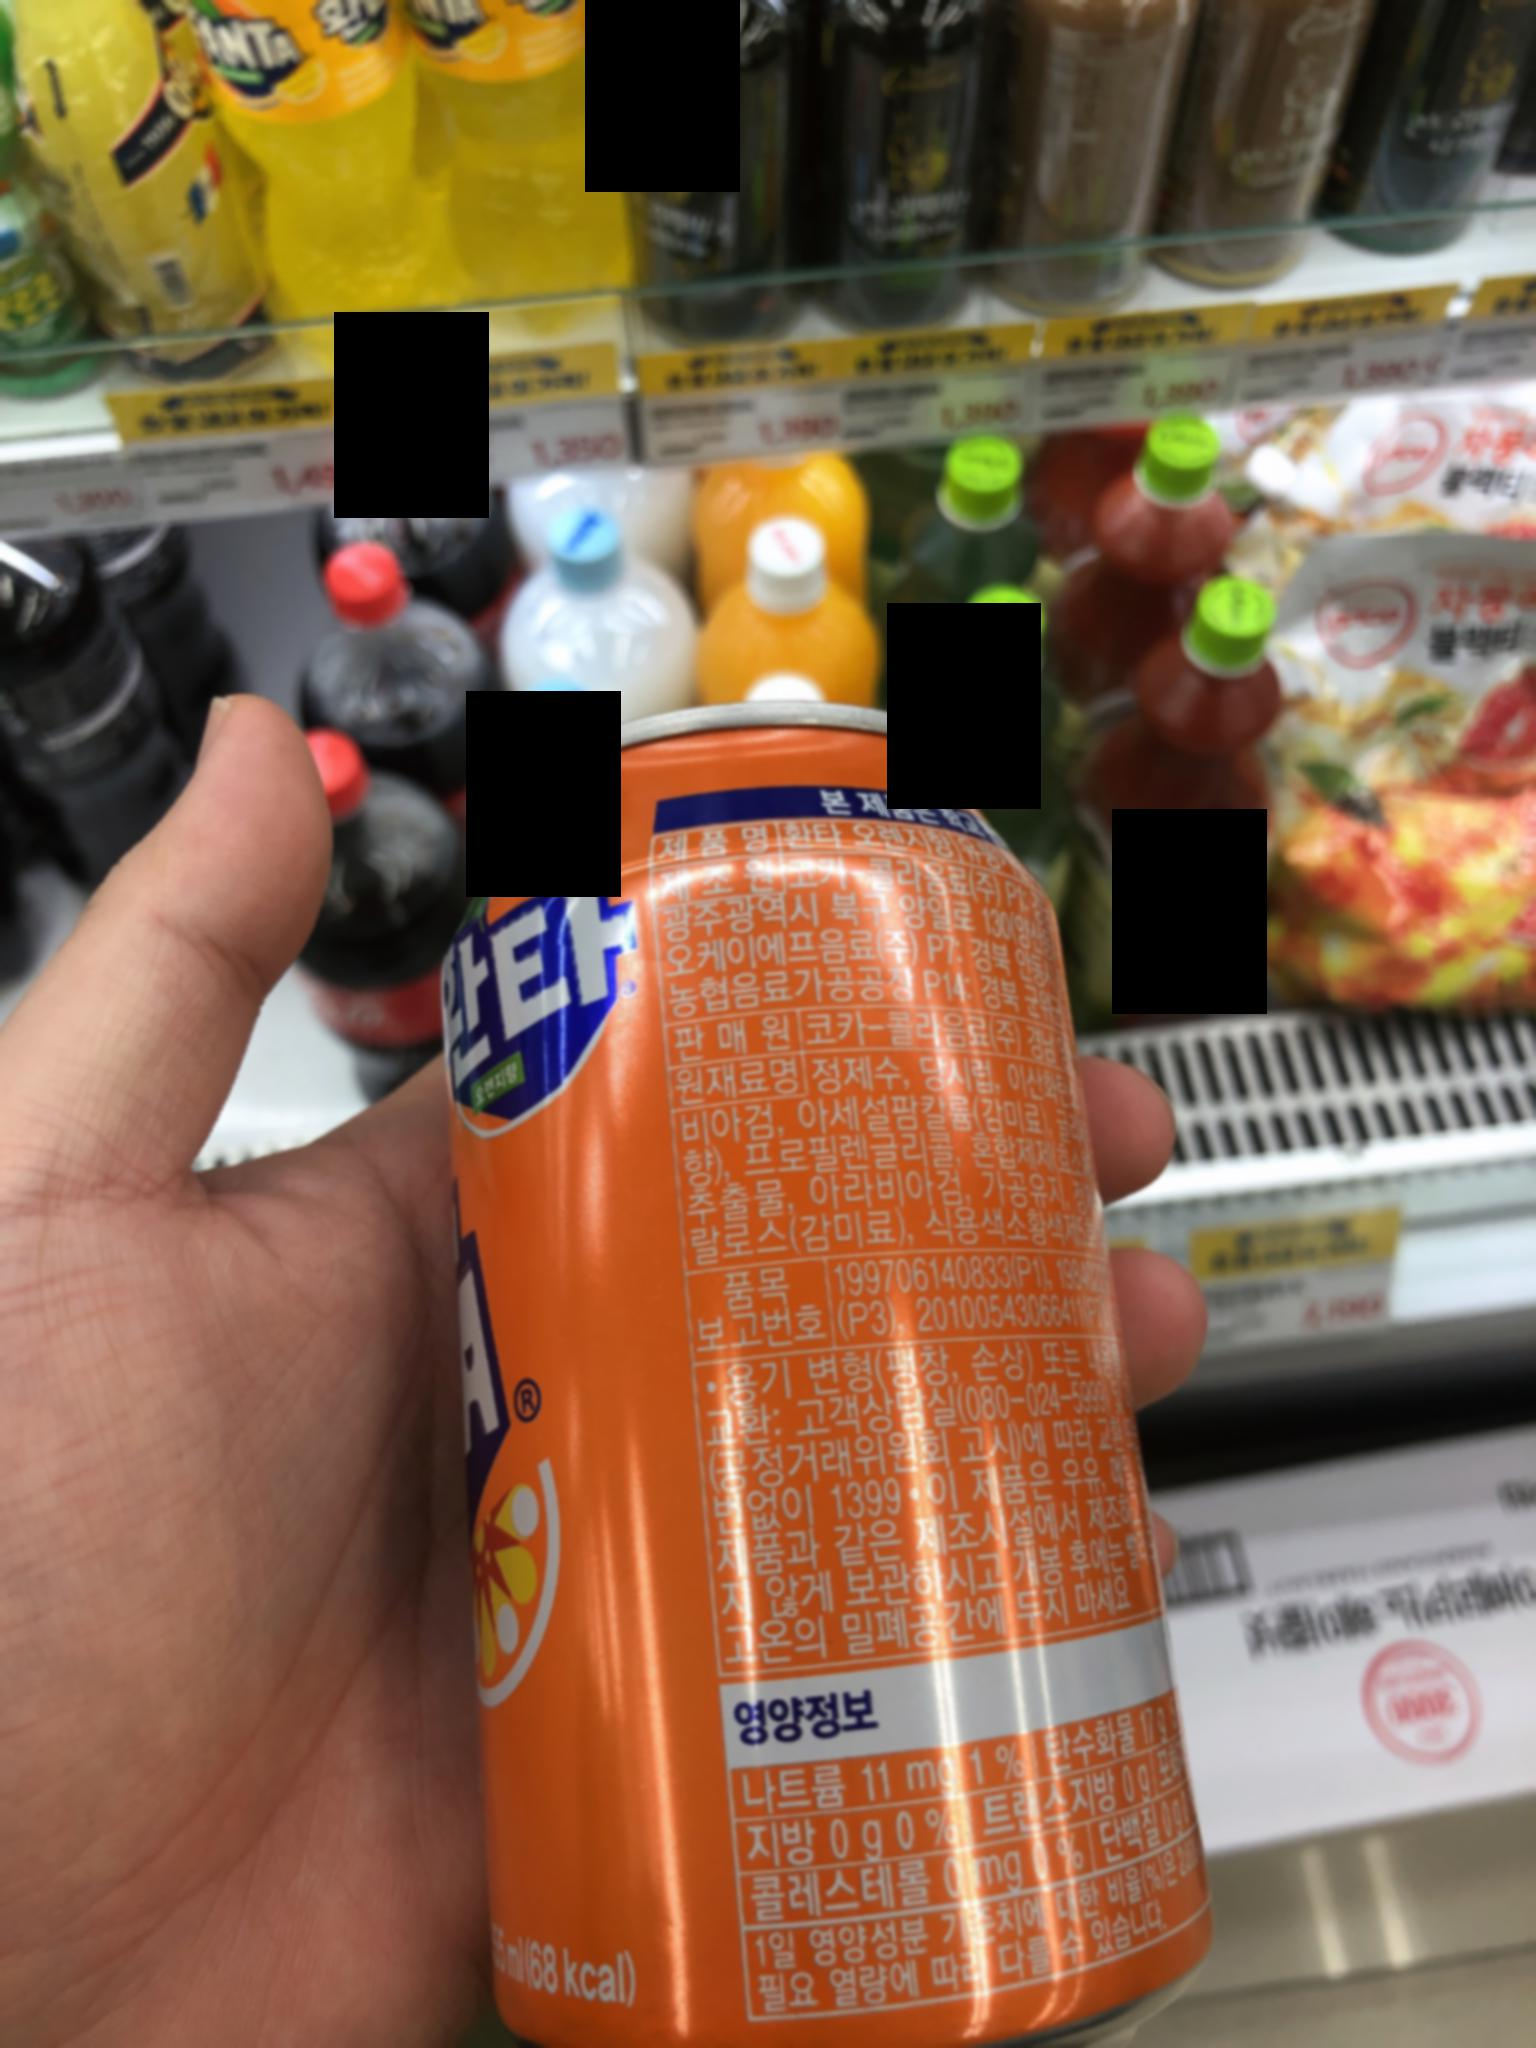fanta_orange: (365, 719, 1239, 2048)
